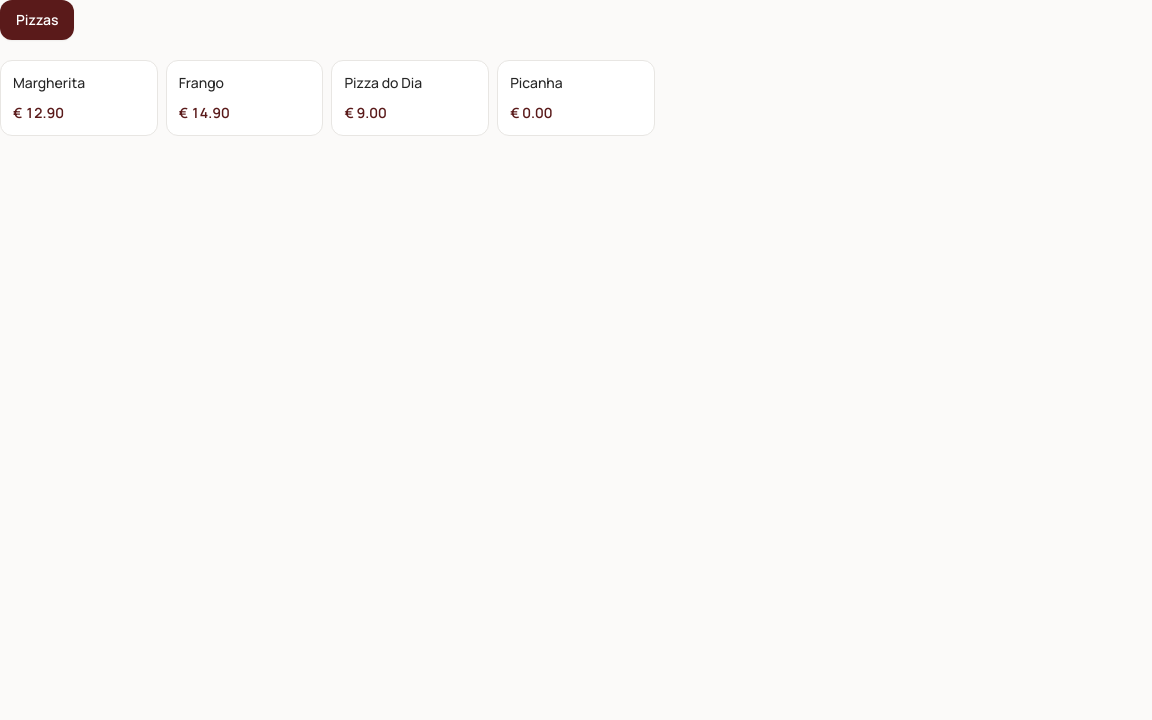
Test case: meia-meia: antes do tamanho não lista as pizzas sem tamanho
Click the button "Margherita € 12.90" at point(79, 98), box top-left (0, 60), bottom-right (158, 136)
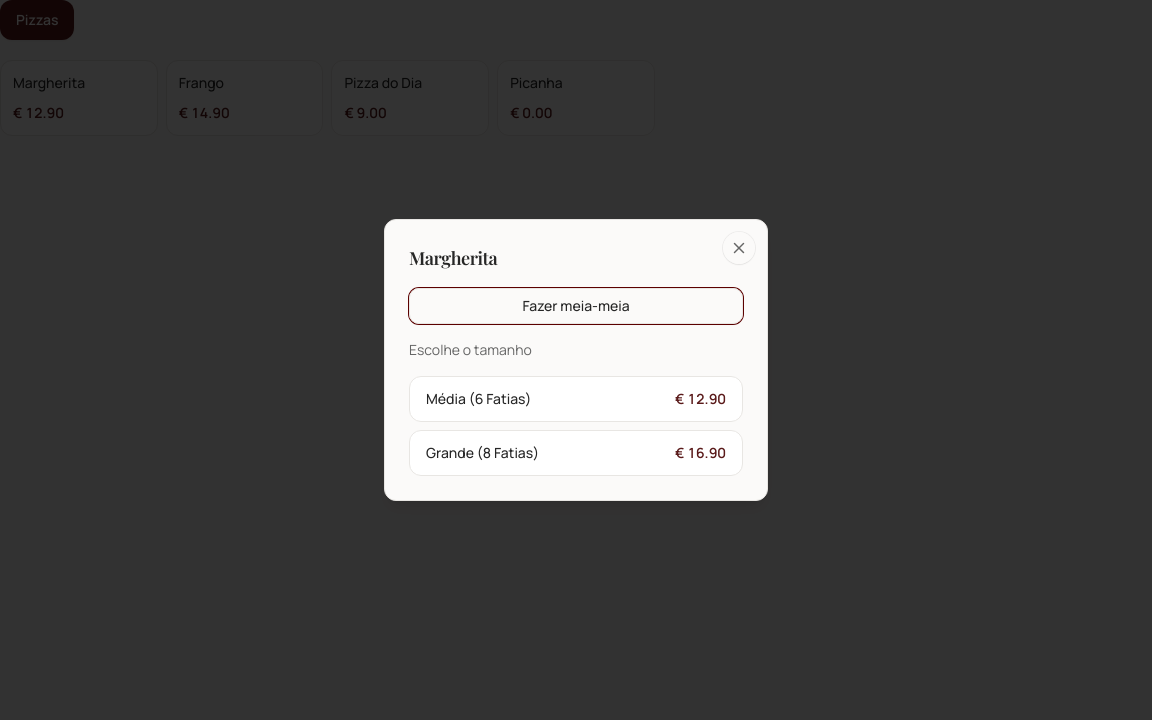
Click the button "Fazer meia-meia" at point(576, 306), box top-left (409, 288), bottom-right (743, 324)
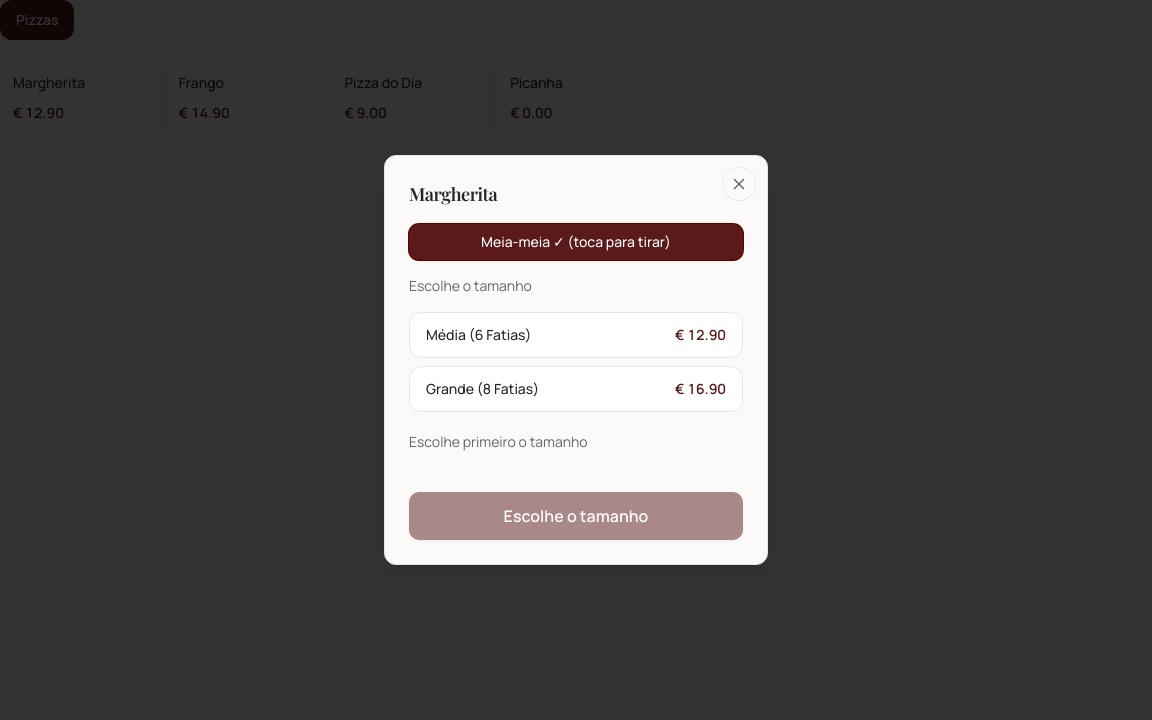
Expected: the dialog shows "Escolhe primeiro o tamanho", top-left (409, 432), bottom-right (588, 451)
